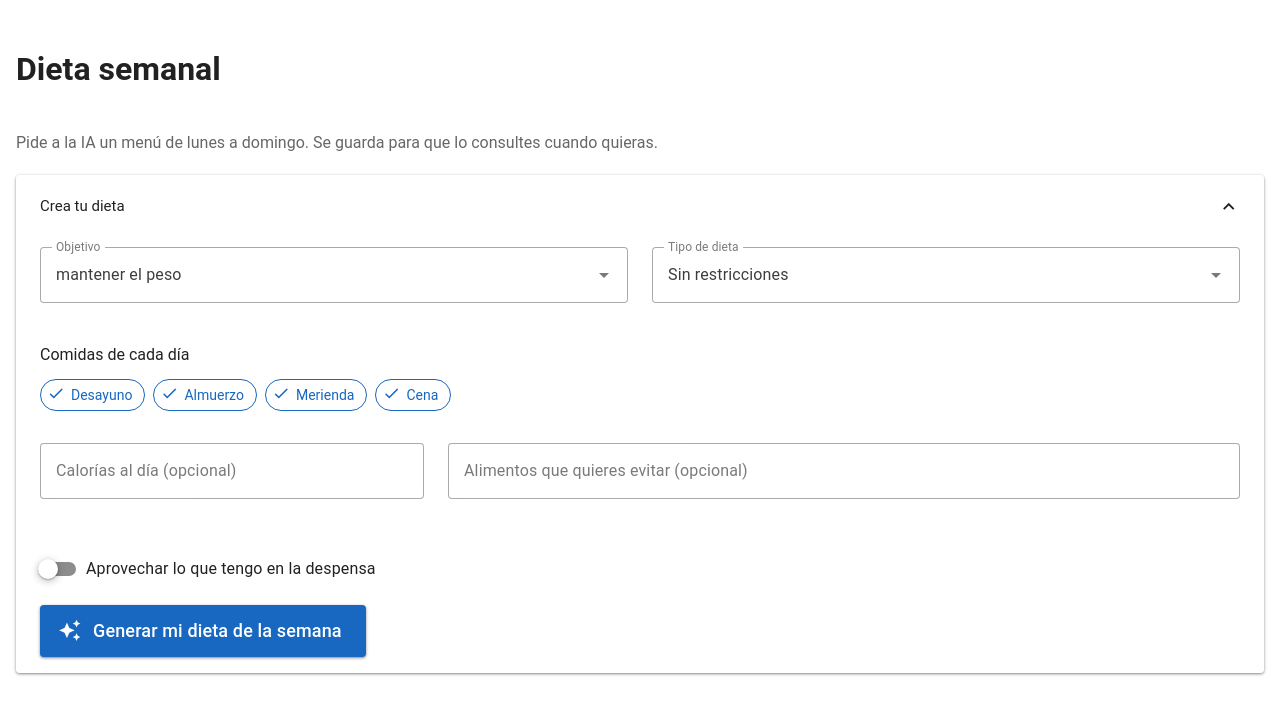
it: MealPlanView › no deja generar con menos de dos comidas
The width and height of the screenshot is (1280, 720).
Click the element showing "Desayuno": (93, 395) [40,379,145,411]
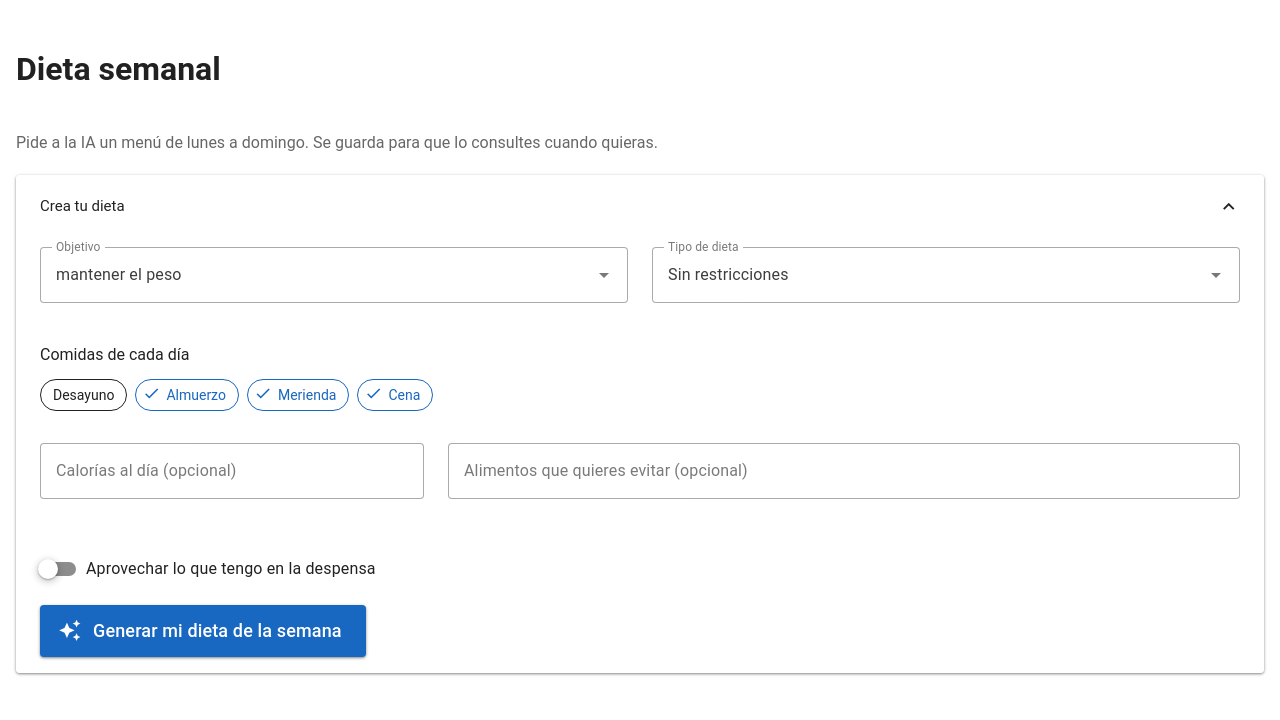
Click the element showing "Almuerzo": (187, 395) [135,379,239,411]
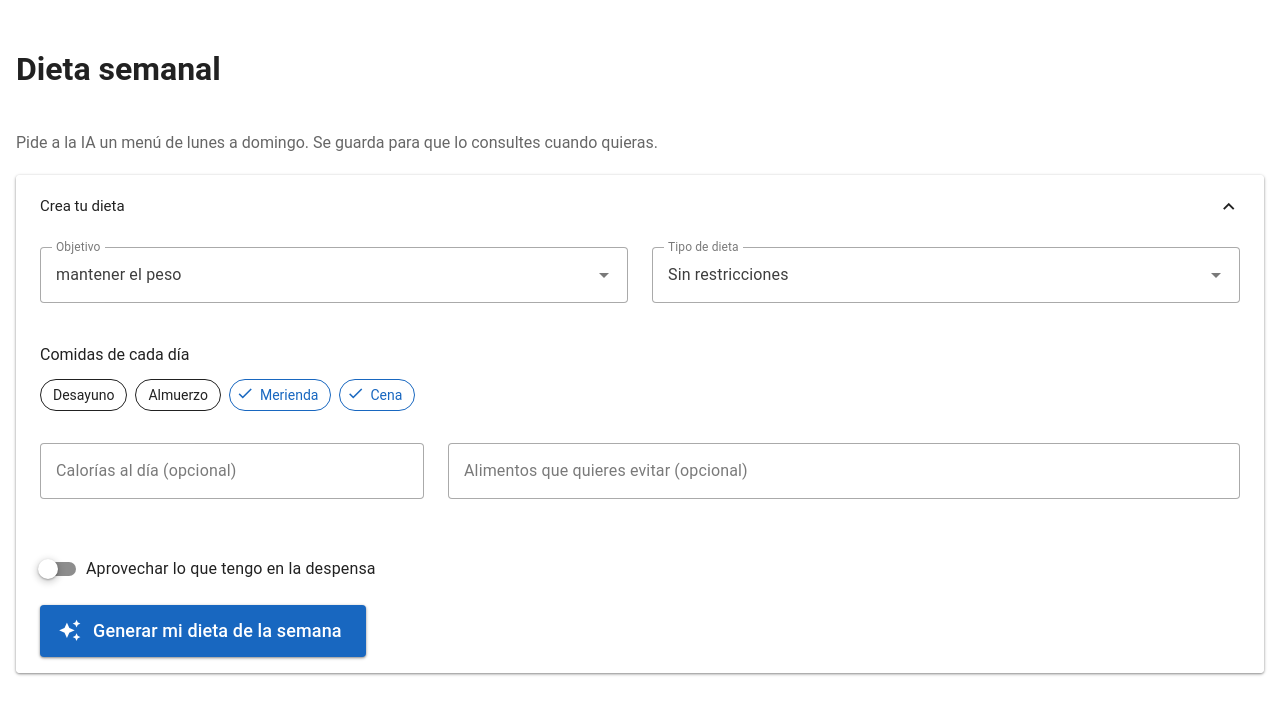
Click the element showing "Merienda": (280, 395) [229,379,332,411]
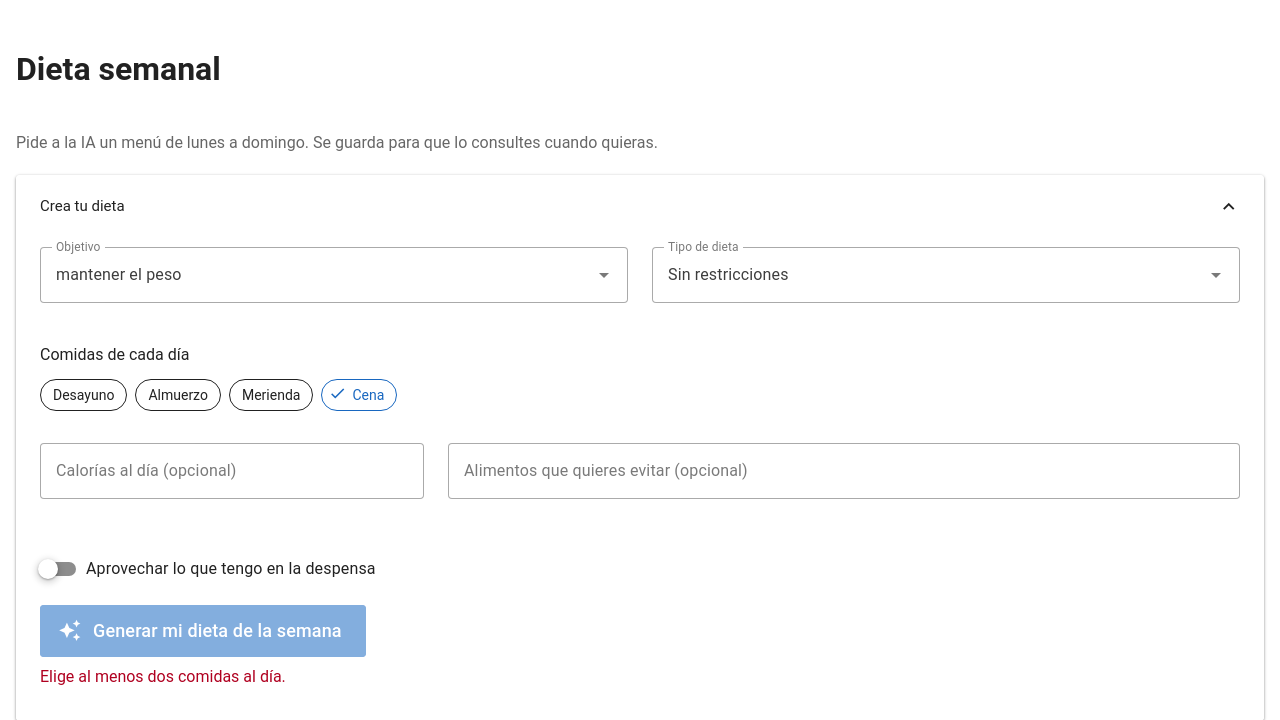
expect the text "Elige al menos dos comidas al día" is shown: met, box [40,667,286,686]
